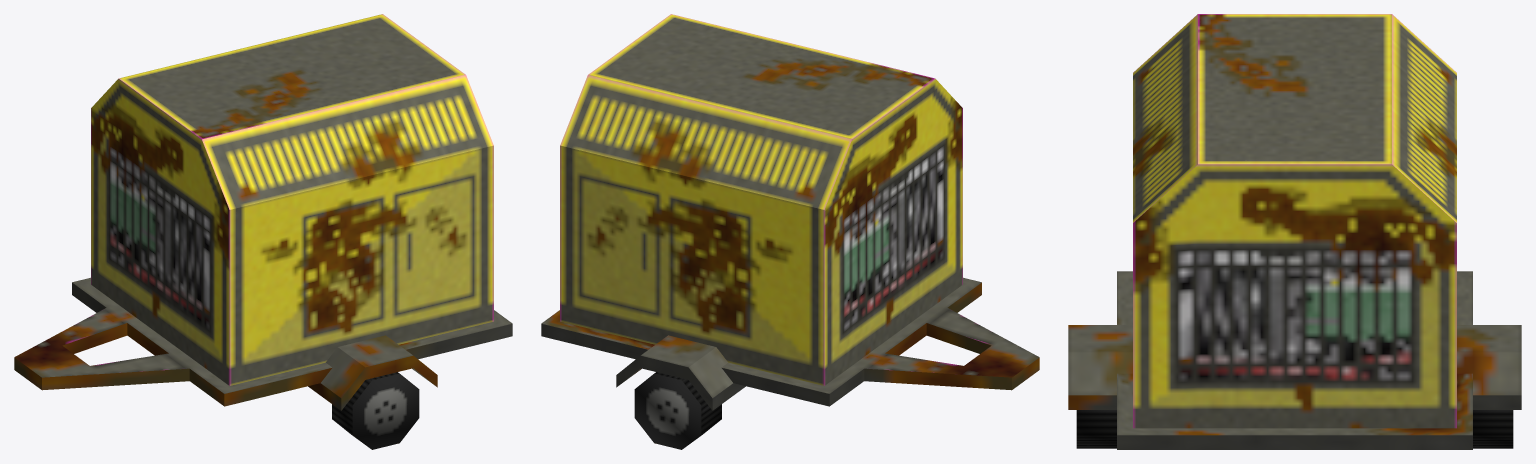
Rendered from generator.fbx.
3 renders of one model, left to right at view 1: azimuth 30°, elevation 25°; view 2: azimuth 150°, elevation 25°; view 3: azimuth 270°, elevation 25°, orthographic. The views are drawn at different scales.
Visible parts, largest first — view 1: Cube, Cylinder; view 2: Cube, Cylinder; view 3: Cube, Cylinder.
Part boxes in pixels (x1,y1,x2,y2): Cube: (14,14,512,410); Cylinder: (332,372,419,449); Cube: (541,14,1039,410); Cylinder: (634,372,721,449); Cube: (1068,14,1521,449); Cylinder: (1076,410,1513,448).
Size of the model in its own units: 2.38 by 1.68 by 1.96.
